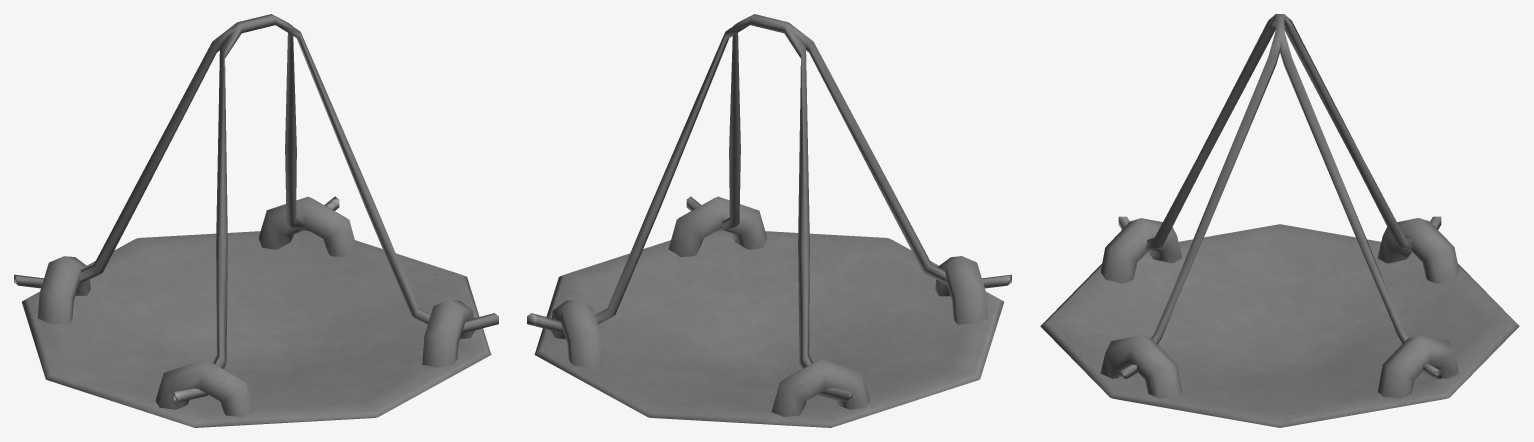
Rendered from MOD_HangingBrazierPlate.fbx.
3 views of the same model, side by side, from view 1: azimuth 30°, elevation 25°; view 2: azimuth 150°, elevation 25°; view 3: azimuth 270°, elevation 25° (orthographic).
Parts seen in each view (by area): view 1: MOD_HangingBrazierPlate; view 2: MOD_HangingBrazierPlate; view 3: MOD_HangingBrazierPlate.
Boxes of the visible parts, x1=… form: MOD_HangingBrazierPlate: x1=14, y1=14, x2=498, y2=427; MOD_HangingBrazierPlate: x1=527, y1=14, x2=1011, y2=427; MOD_HangingBrazierPlate: x1=1040, y1=14, x2=1519, y2=427.
Bounding box in the file's own units: 55.89 × 43.97 × 55.89.
Materials: 1 (1 with a texture image).
